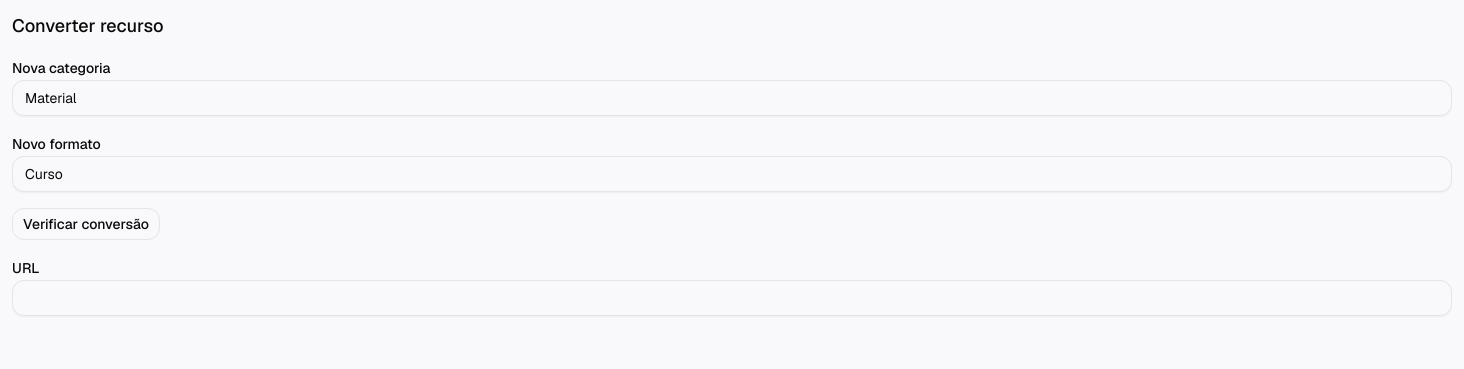
Scenario: ResourceConversion › reports a preview failure
The width and height of the screenshot is (1464, 369).
Click the button "Verificar conversão": {"x": 86, "y": 224} left=12, top=208, right=160, bottom=240
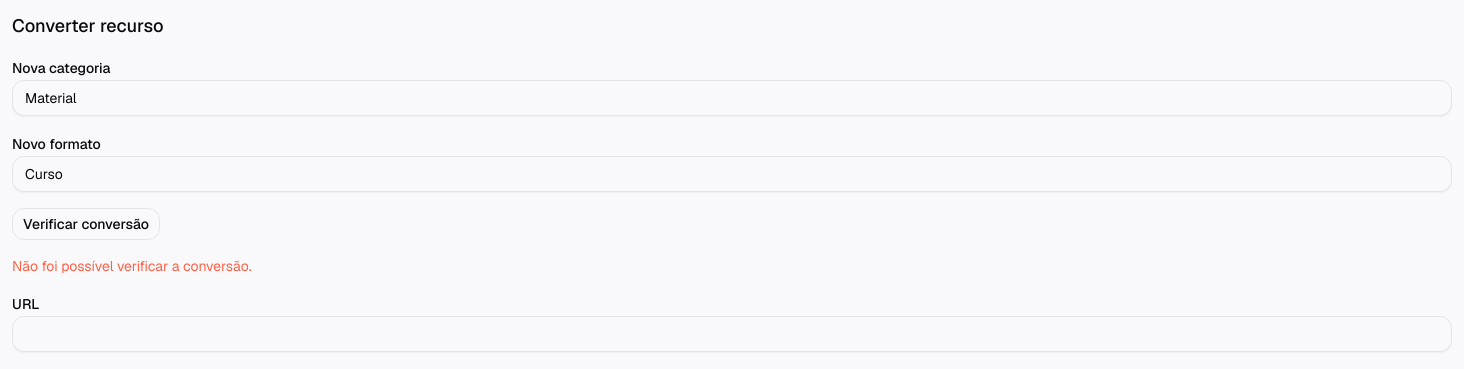
Expected: the message reads "Não foi possível verificar a conversão.", left=12, top=257, right=252, bottom=275
